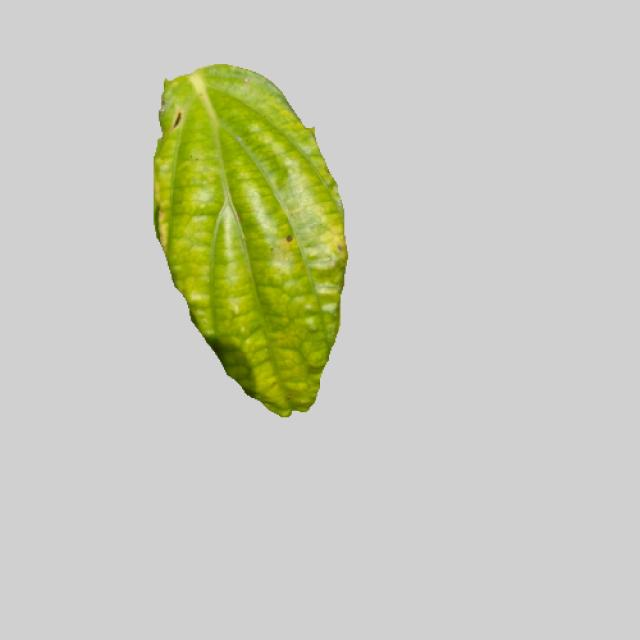yellow-mottle-virus: (141, 59, 349, 413)
